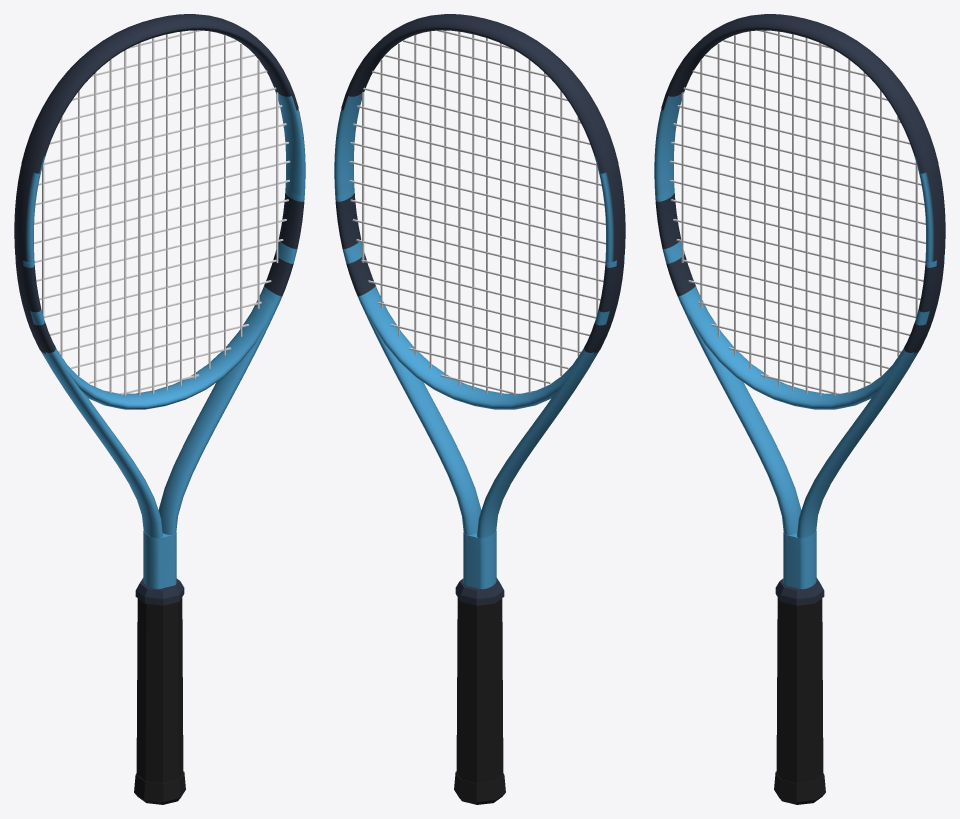
Rendered from babolat-pure-drive-plus-2025.glb.
3 renders of one model, left to right at view 1: azimuth 30°, elevation 25°; view 2: azimuth 150°, elevation 25°; view 3: azimuth 330°, elevation 25°, orthographic.
Parts seen in each view (by area): view 1: frame, strings_mains, strings_crosses, grip, bumper, grommets, butt_cap, collar; view 2: frame, strings_mains, strings_crosses, grip, bumper, grommets, butt_cap, collar; view 3: frame, strings_mains, strings_crosses, grip, bumper, grommets, butt_cap, collar.
Boxes of the visible parts, <box> form: frame: <box>14,27,305,589</box>; strings_mains: <box>42,30,278,395</box>; strings_crosses: <box>34,30,290,394</box>; grip: <box>136,597,183,783</box>; bumper: <box>21,14,298,173</box>; grommets: <box>15,165,45,353</box>; butt_cap: <box>134,771,185,804</box>; collar: <box>135,578,184,605</box>; frame: <box>334,27,625,589</box>; strings_mains: <box>362,30,598,395</box>; strings_crosses: <box>349,30,605,395</box>; grip: <box>456,597,503,783</box>; bumper: <box>341,14,618,173</box>; grommets: <box>594,165,624,353</box>; butt_cap: <box>454,771,505,804</box>; collar: <box>455,578,504,605</box>; frame: <box>654,27,945,589</box>; strings_mains: <box>681,30,917,395</box>; strings_crosses: <box>669,30,925,394</box>; grip: <box>776,597,823,783</box>; bumper: <box>661,14,938,173</box>; grommets: <box>914,165,944,353</box>; butt_cap: <box>774,771,825,804</box>; collar: <box>775,578,824,605</box>.
Bounding box in the file's own units: 0.2678 × 0.6988 × 0.0396.
